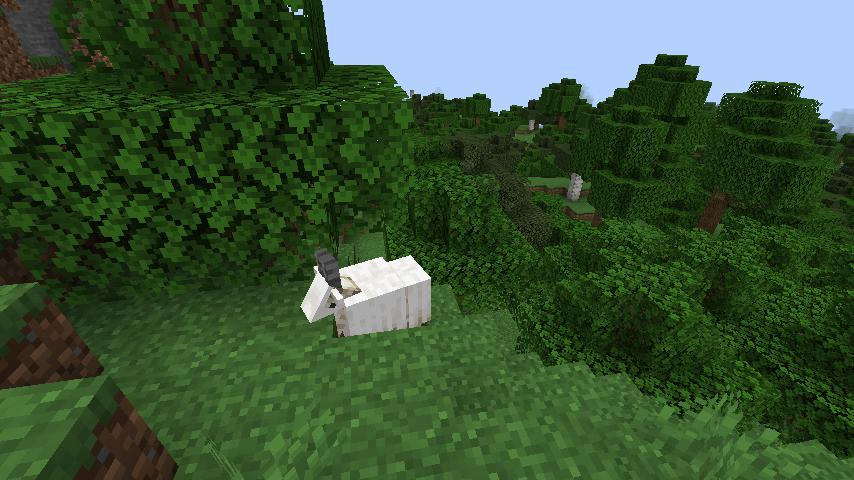goat: (301, 243, 434, 340)
